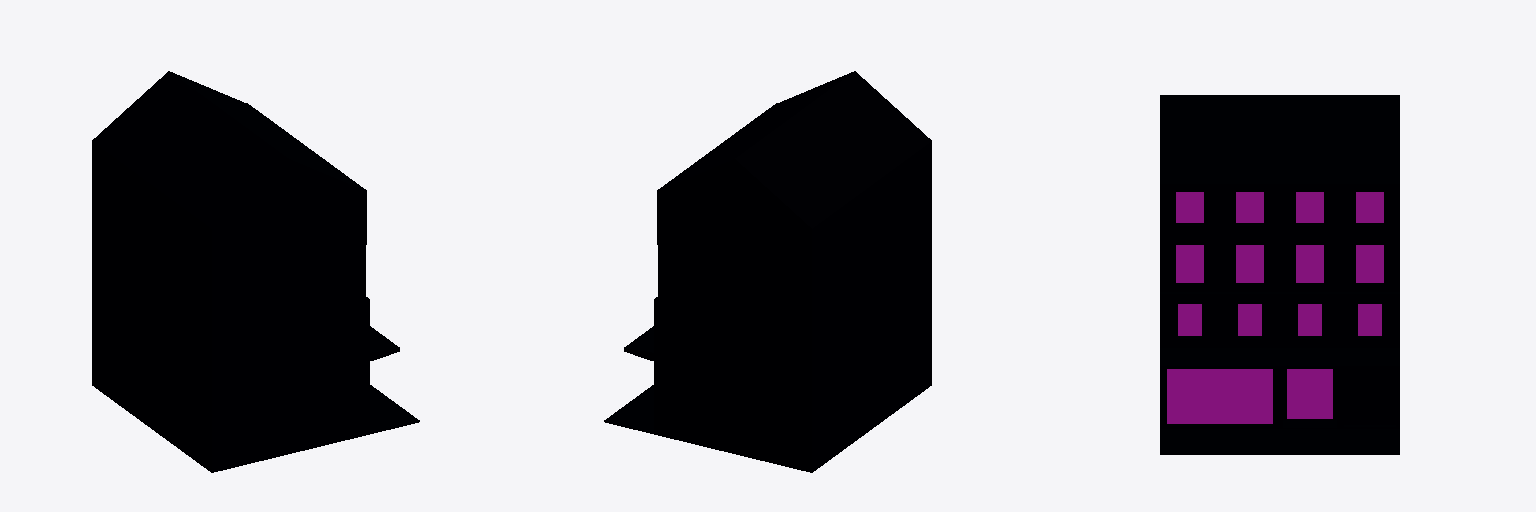
File: corber.obj
The picture shows the model from 3 angles: view 1: azimuth 30°, elevation 25°; view 2: azimuth 150°, elevation 25°; view 3: azimuth 270°, elevation 25°; orthographic projection.
Visible parts, largest first — view 1: Plane.077; view 2: Plane.077; view 3: Plane.077.
Boxes of the visible parts, x1=… form: Plane.077: x1=92, y1=71, x2=419, y2=472; Plane.077: x1=604, y1=71, x2=931, y2=472; Plane.077: x1=1160, y1=95, x2=1399, y2=454.
Size of the model in its own units: 8.04 by 10.89 by 8.02.